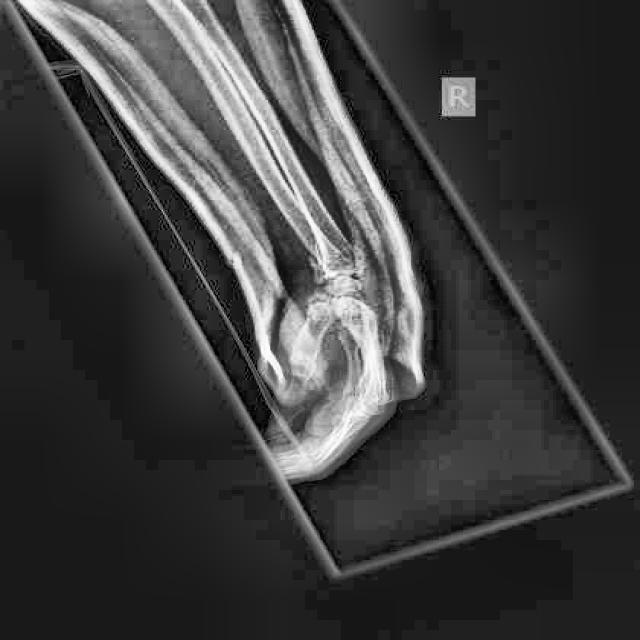forearm fracture: (294, 242, 335, 279)
